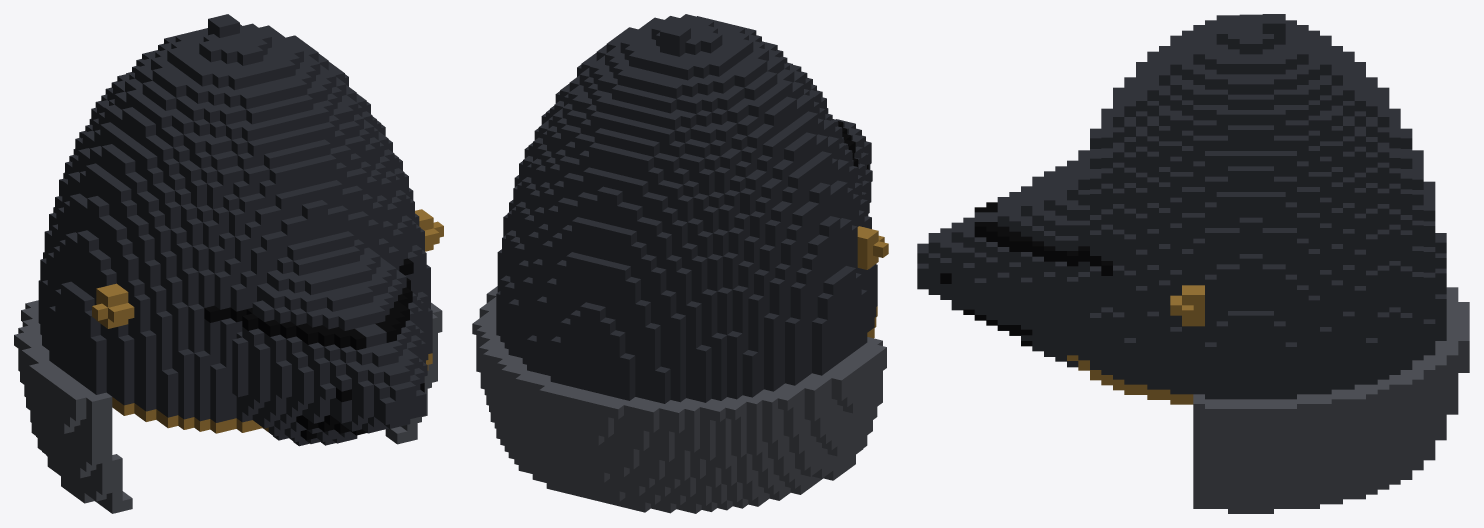
The model's file is steel_barbute.glb.
3 views of the same model, side by side, from view 1: azimuth 30°, elevation 25°; view 2: azimuth 150°, elevation 25°; view 3: azimuth 270°, elevation 25° (orthographic). The views are drawn at different scales.
Visible parts, largest first — view 1: steel_barbute; view 2: steel_barbute; view 3: steel_barbute.
Part boxes in pixels (box(x1,y1,x2,y2)): steel_barbute: box(14, 14, 443, 513); steel_barbute: box(472, 14, 888, 513); steel_barbute: box(917, 14, 1469, 513).
Bounding box in the file's own units: 0.432 × 0.48 × 0.576.
